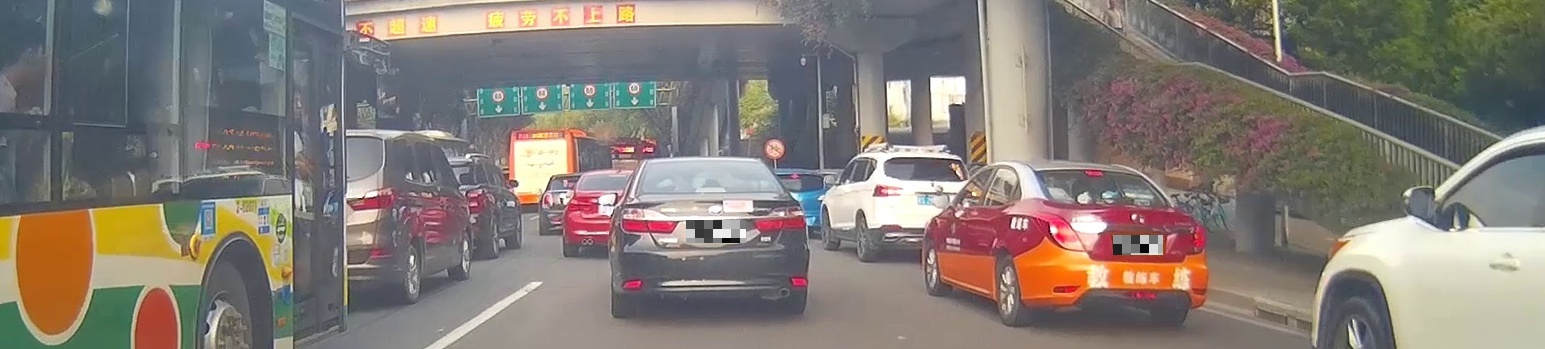L_light: (1030, 209, 1086, 252), (620, 208, 678, 234)
R_light: (753, 206, 807, 230), (1193, 223, 1206, 254)
T_light: (696, 186, 726, 192), (1084, 169, 1104, 177)
day-brake: (1026, 164, 1208, 326)
day-no: (611, 157, 809, 318)
plate_1: (686, 220, 746, 243)
plate_2: (1113, 235, 1163, 255)
